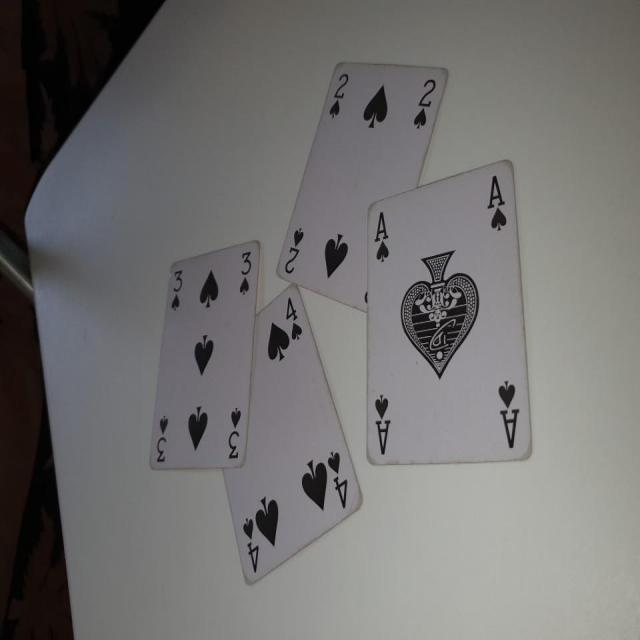2 Spades: (276, 67, 434, 309)
3 Spades: (151, 251, 256, 473)
4 Spades: (218, 297, 362, 594)
A Spades: (370, 176, 528, 473)
